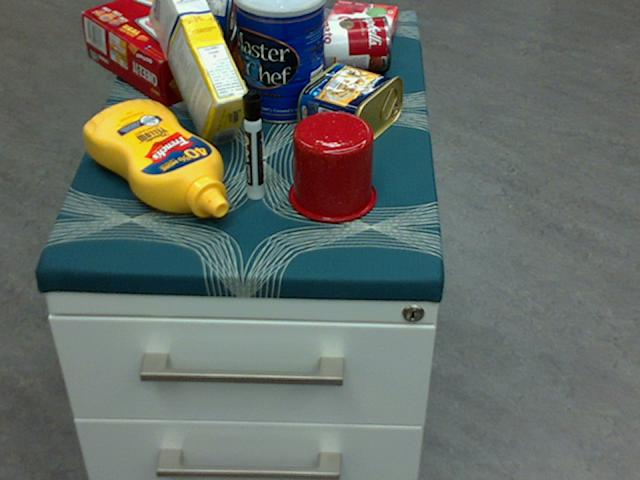cracker_box: (83, 0, 297, 107)
gelatin_box: (323, 2, 397, 47)
large_marker: (241, 90, 263, 198)
master_chef_can: (234, 0, 325, 123)
mug: (286, 109, 375, 221)
mustard_bottle: (82, 100, 227, 216)
potted_meat_can: (297, 60, 403, 149)
sugar_box: (149, 0, 252, 145)
tomato_soup_can: (303, 15, 390, 74)
tuna_fish_can: (199, 0, 240, 43)
